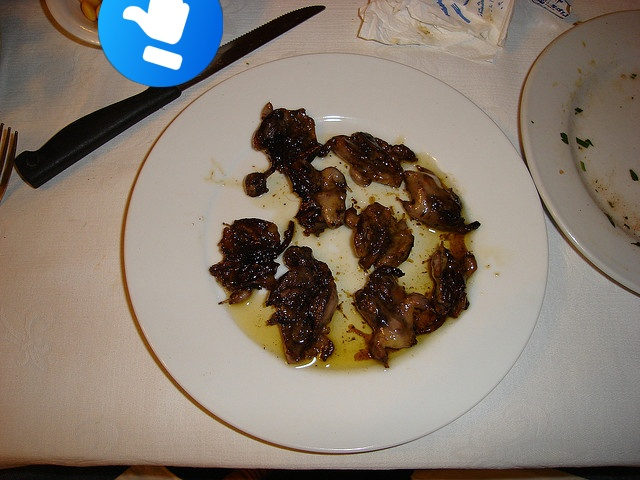like: (98, 0, 223, 87)
